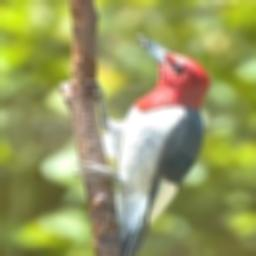Woodpecker: (75, 35, 212, 256)
